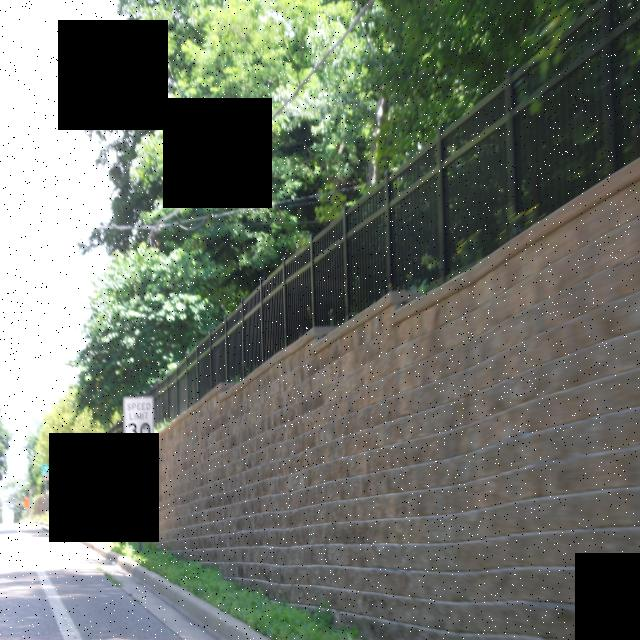regulatory: (121, 395, 158, 444)
